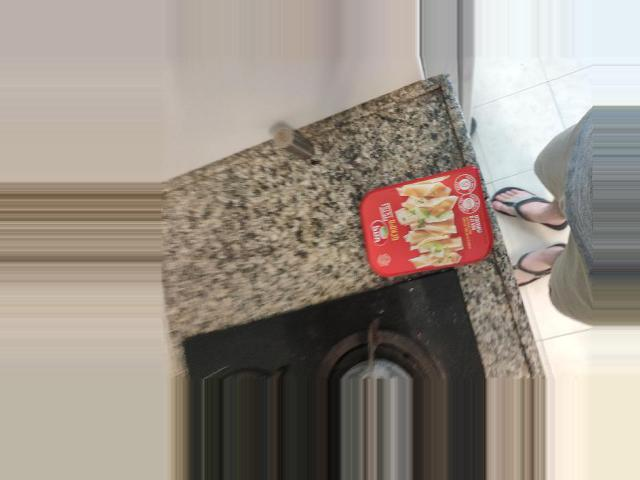cheese: (233, 157, 388, 286)
